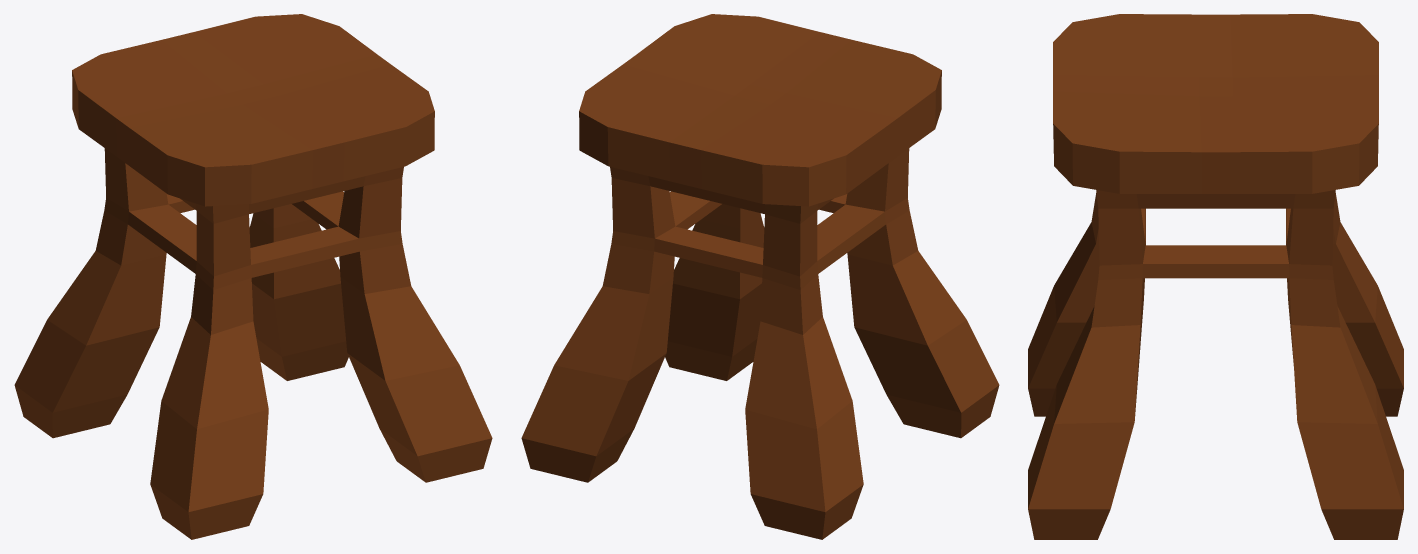
Rendered from chair45.fbx.
3 renders of one model, left to right at view 1: azimuth 30°, elevation 25°; view 2: azimuth 150°, elevation 25°; view 3: azimuth 270°, elevation 25°, orthographic. The views are drawn at different scales.
Visible parts, largest first — view 1: chair; view 2: chair; view 3: chair.
Part boxes in pixels (box(x1,y1,x2,y2)): chair: box(14, 14, 492, 539); chair: box(521, 14, 999, 539); chair: box(1028, 14, 1403, 539).
Size of the model in its own units: 2.04 by 2.02 by 2.25.
